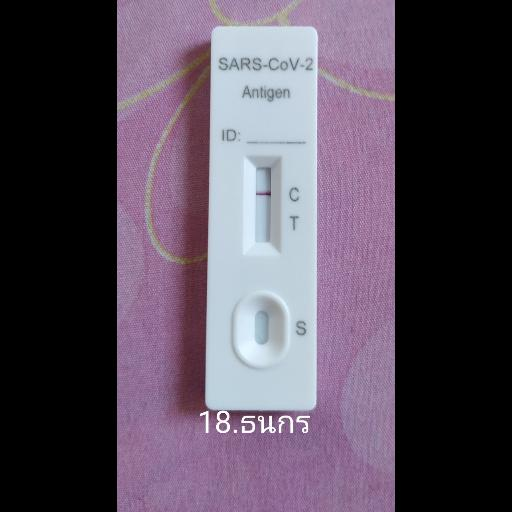Neg: (204, 24, 314, 410)
